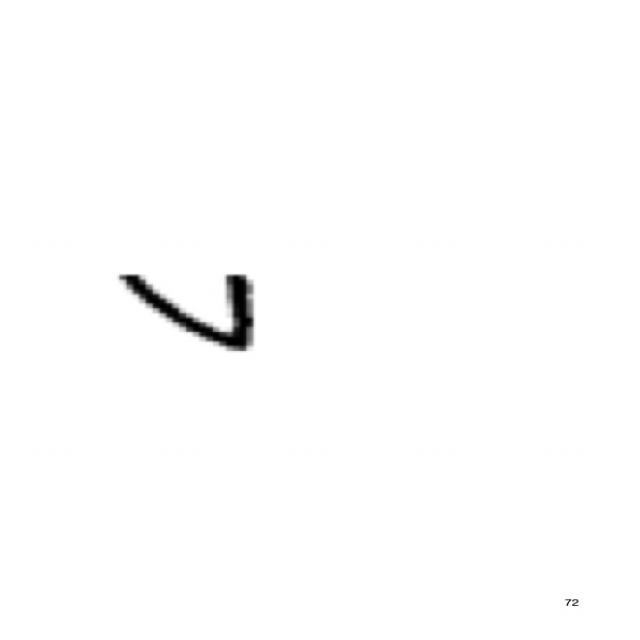7 -seven-: (102, 261, 269, 360)
